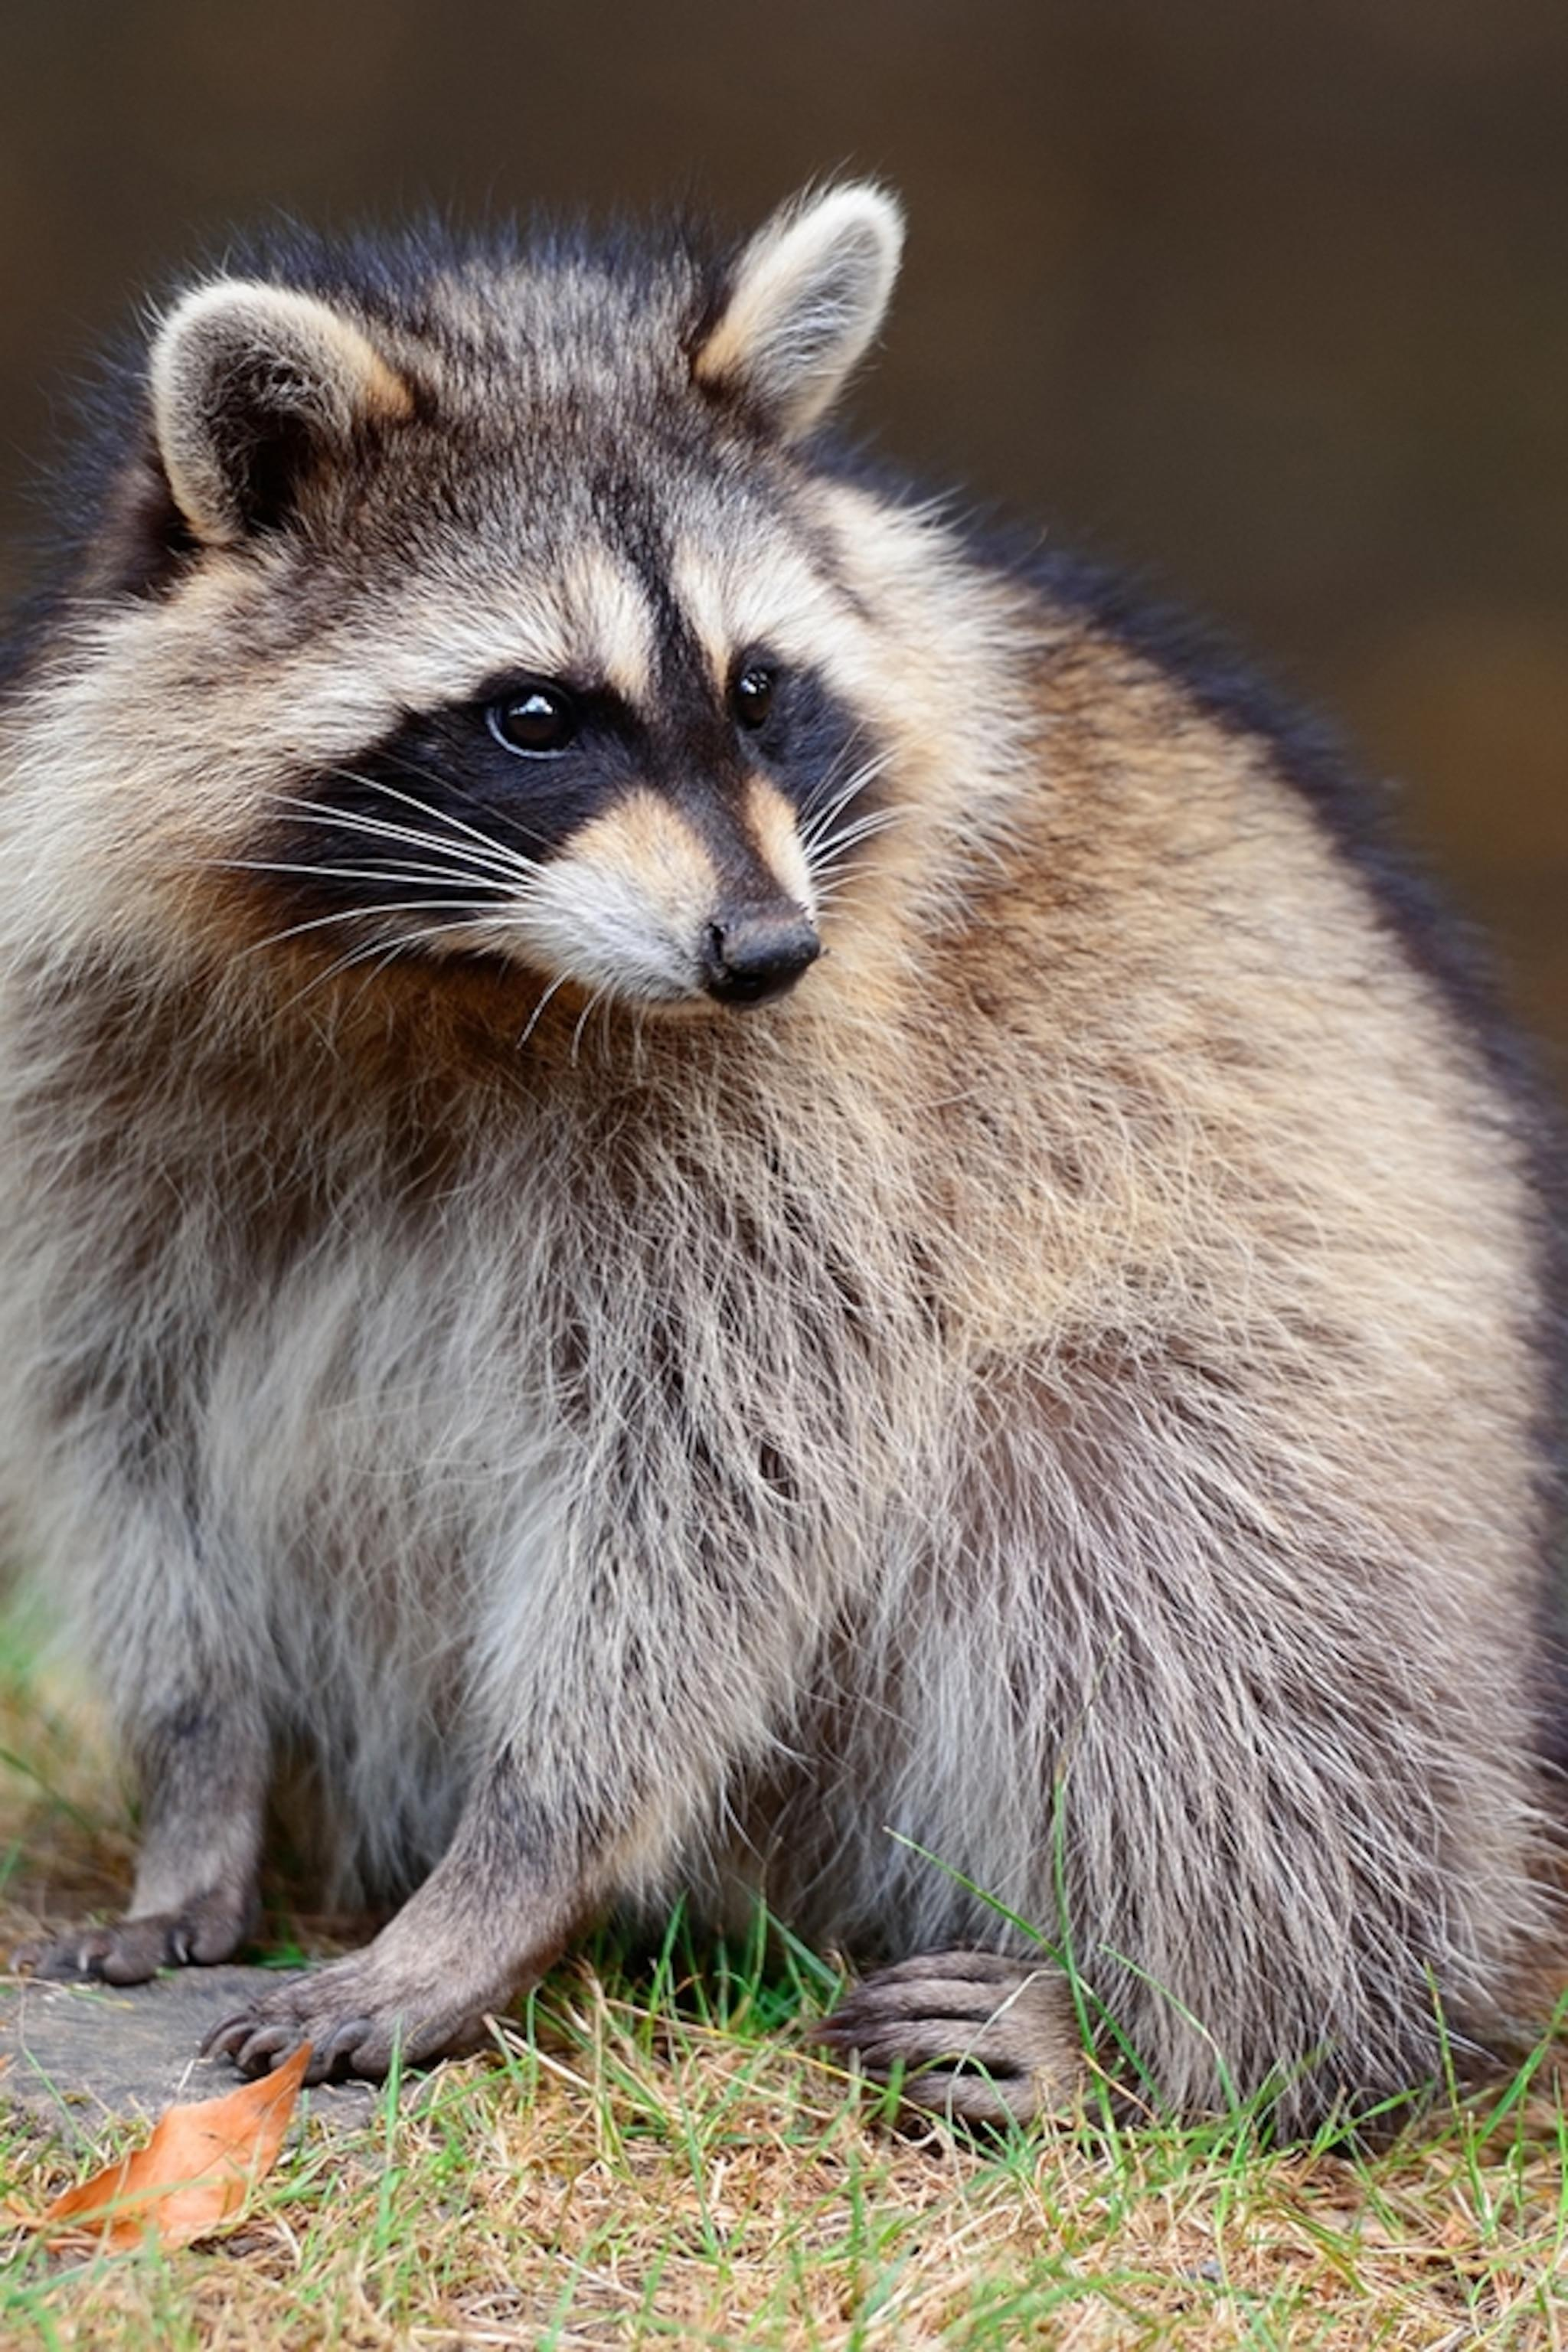raccoon: (0, 152, 1568, 2168)
